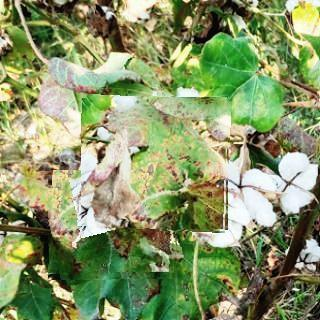blight: (82, 96, 230, 232), (48, 163, 181, 280)
